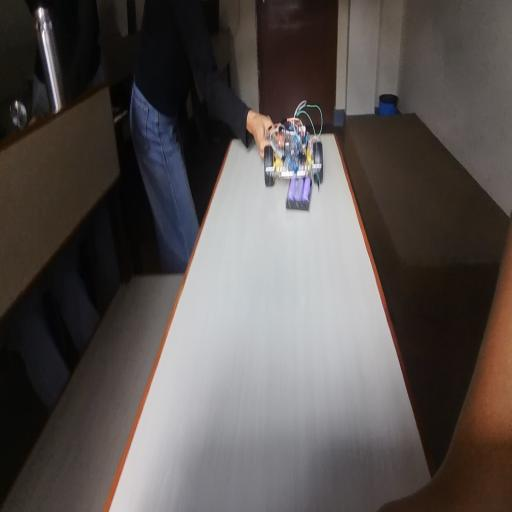car: (263, 123, 328, 211)
